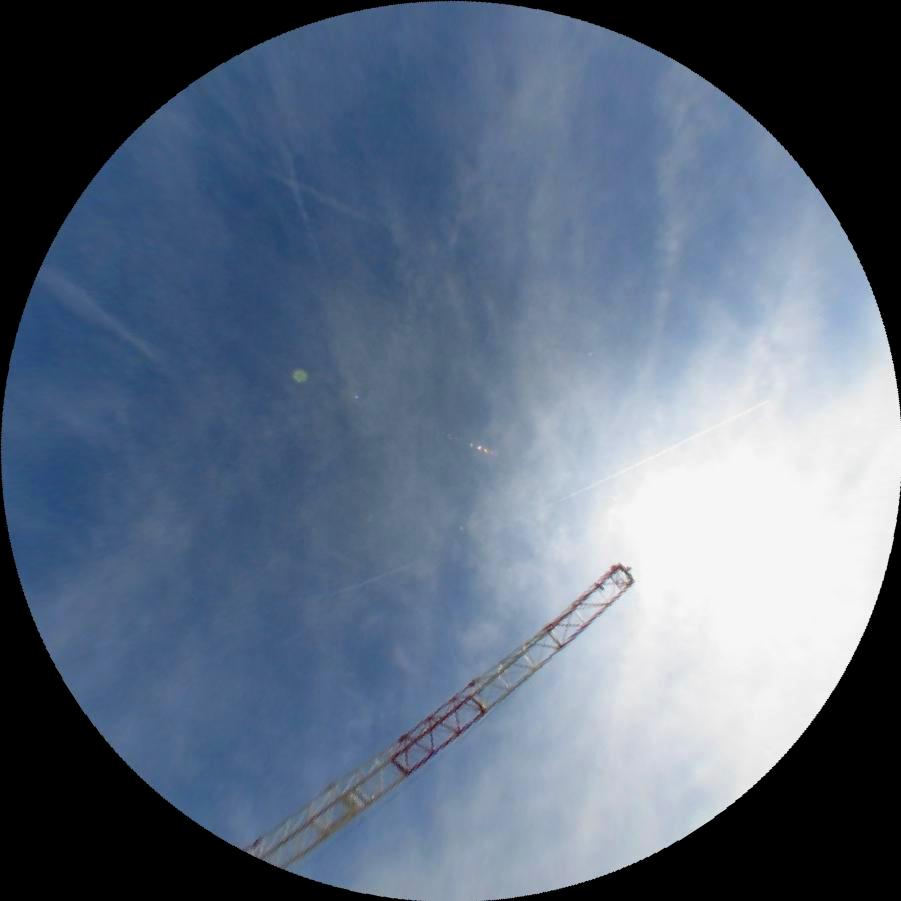contrail young: (545, 398, 769, 509)
